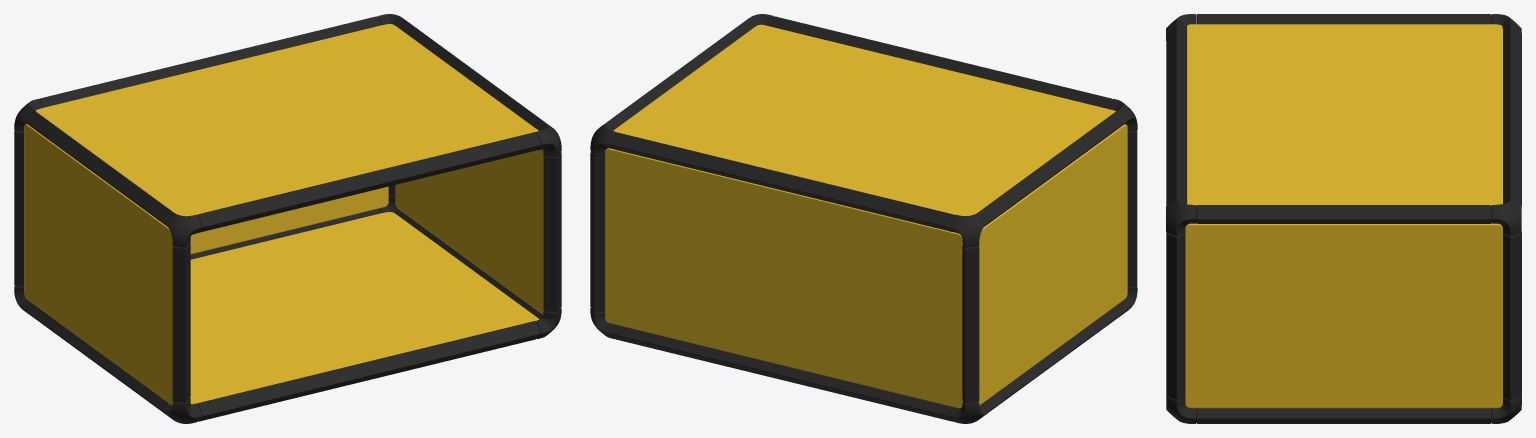
3 renders of one model, left to right at view 1: azimuth 30°, elevation 25°; view 2: azimuth 150°, elevation 25°; view 3: azimuth 270°, elevation 25°, orthographic. The views are drawn at different scales.
Visible parts, largest first — view 1: 523x374x229; view 2: 523x374x229; view 3: 523x374x229.
Part boxes in pixels (x1,y1,x2,y2): 523x374x229: (14,14,561,423); 523x374x229: (590,14,1137,423); 523x374x229: (1166,14,1521,423).
Bounding box in the file's own units: 0.6007 × 0.3066 × 0.4513.
